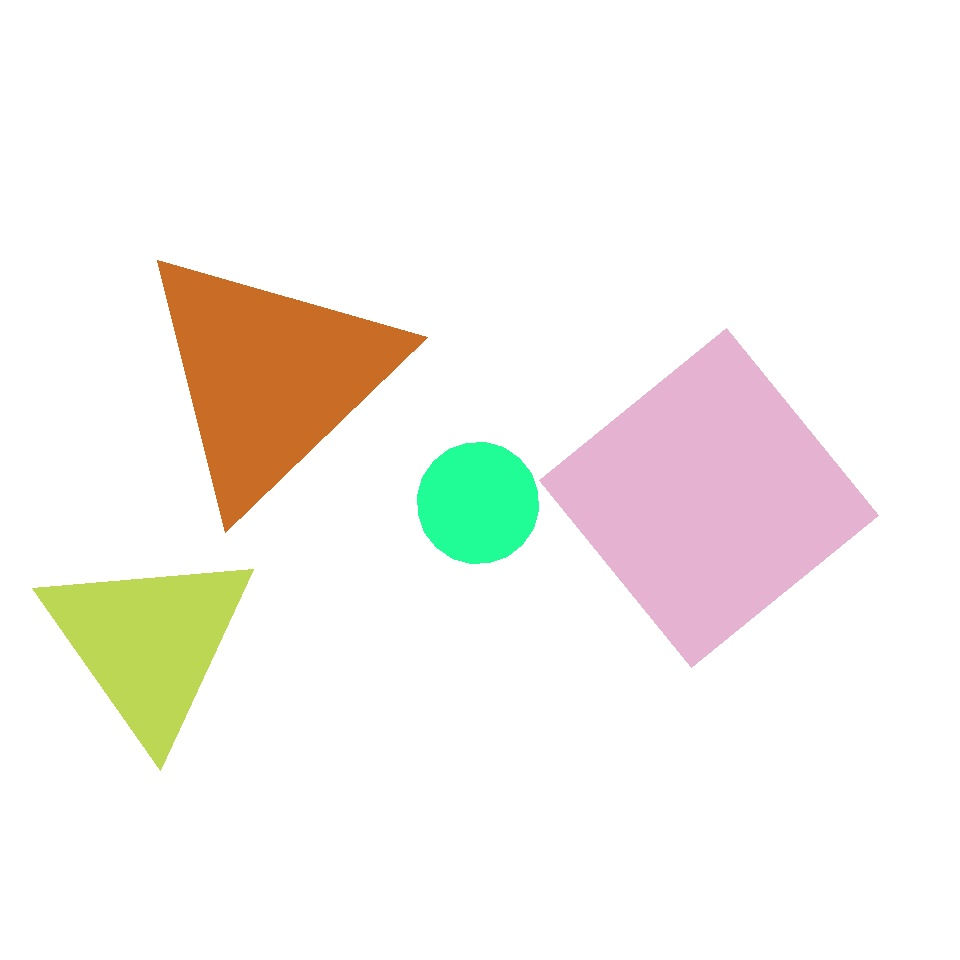circle: (135, 241, 405, 513), (146, 232, 406, 464), (39, 542, 260, 744), (746, 450, 842, 546)
square: (540, 329, 878, 668)
triangle: (418, 442, 538, 564)
